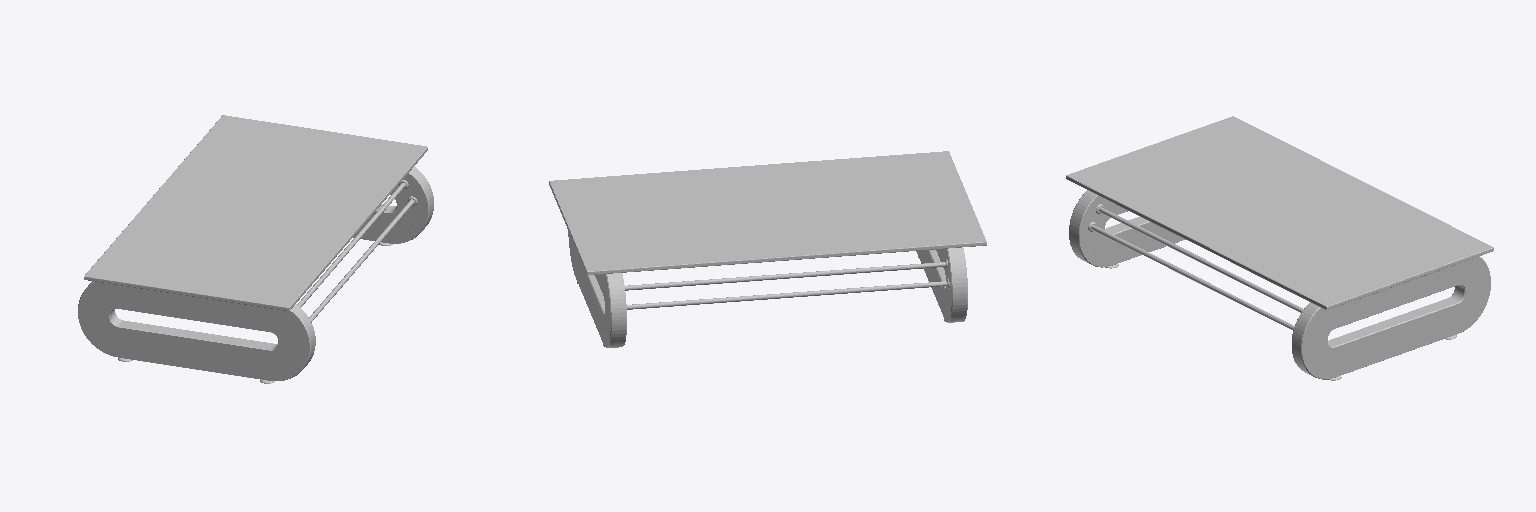
The picture shows the model from 3 angles: view 1: azimuth 30°, elevation 25°; view 2: azimuth 150°, elevation 25°; view 3: azimuth 270°, elevation 25°; orthographic projection.
Parts seen in each view (by area): view 1: Coffee_Table_02_; view 2: Coffee_Table_02_; view 3: Coffee_Table_02_.
Part boxes in pixels (bbox=[...]): Coffee_Table_02_: bbox=[78, 115, 433, 383]; Coffee_Table_02_: bbox=[549, 151, 986, 347]; Coffee_Table_02_: bbox=[1066, 116, 1493, 380].
Size of the model in its own units: 4.76 by 1.04 by 4.52.